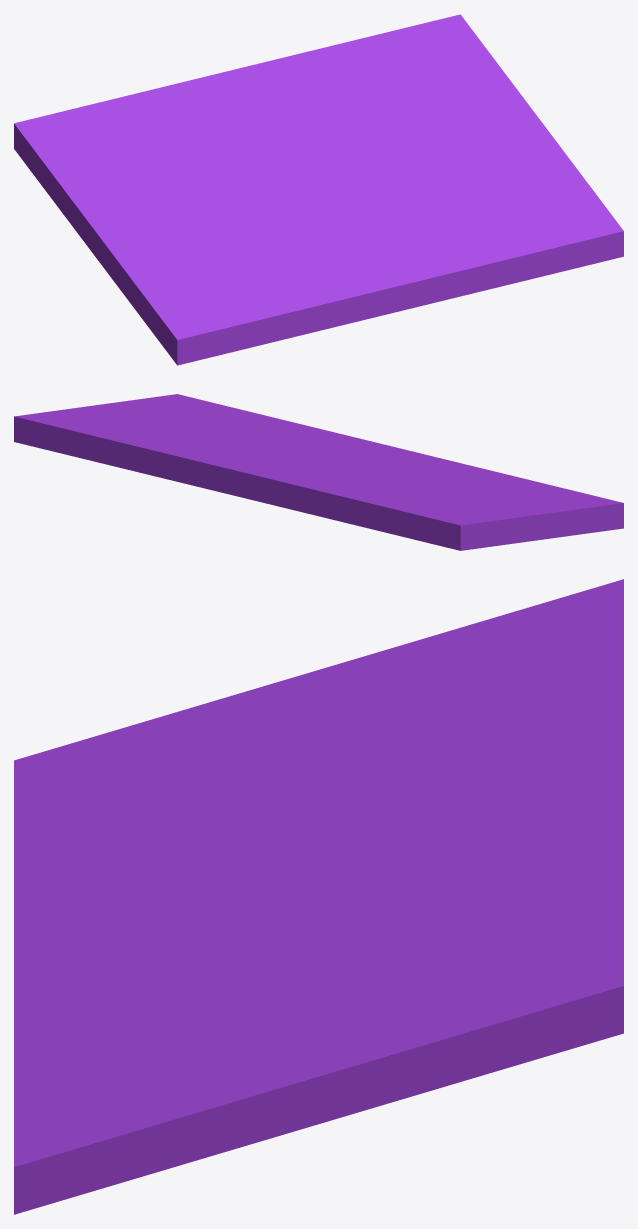
Rendered from Window_145_chunks.fbx.
3 views of the same model, one above another, from view 1: azimuth 30°, elevation 25°; view 2: azimuth 150°, elevation 25°; view 3: azimuth 270°, elevation 25° (orthographic). The views are drawn at different scales.
Parts seen in each view (by area): view 1: Window_145_1, Window_145_0, Window_145_2, Window_145_4, Window_145_5, Window_145_3, Window_145_6; view 2: Window_145_1, Window_145_0, Window_145_2, Window_145_4, Window_145_3, Window_145_5, Window_145_6; view 3: Window_145_0, Window_145_1, Window_145_2, Window_145_4, Window_145_3, Window_145_5, Window_145_6.
Boxes of the visible parts, box(x1,y1,x2,y2) form: Window_145_1: box(14, 68, 315, 329); Window_145_0: box(238, 14, 588, 184); Window_145_2: box(310, 167, 623, 265); Window_145_4: box(301, 195, 587, 308); Window_145_5: box(163, 276, 409, 365); Window_145_3: box(151, 203, 313, 346); Window_145_6: box(285, 242, 399, 287); Window_145_1: box(236, 459, 607, 550); Window_145_0: box(14, 399, 307, 497); Window_145_2: box(143, 394, 347, 462); Window_145_4: box(289, 421, 404, 465); Window_145_3: box(366, 465, 617, 531); Window_145_5: box(410, 451, 623, 530); Window_145_6: box(401, 449, 467, 473); Window_145_0: box(85, 783, 623, 1193); Window_145_1: box(74, 579, 623, 868); Window_145_2: box(14, 867, 343, 1214); Window_145_4: box(14, 860, 279, 1065); Window_145_3: box(38, 742, 266, 876); Window_145_5: box(14, 753, 103, 955); Window_145_6: box(14, 853, 168, 962).
Size of the model in its own units: 1838 by 482 by 1165.
